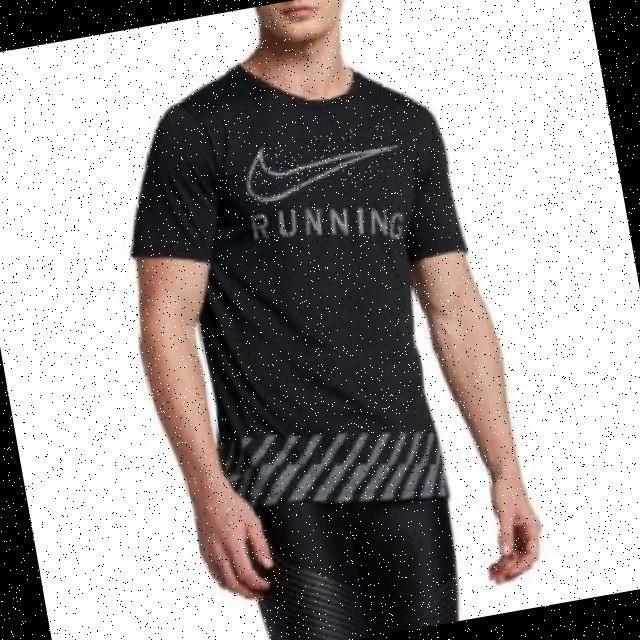Nike: (236, 122, 403, 203)
